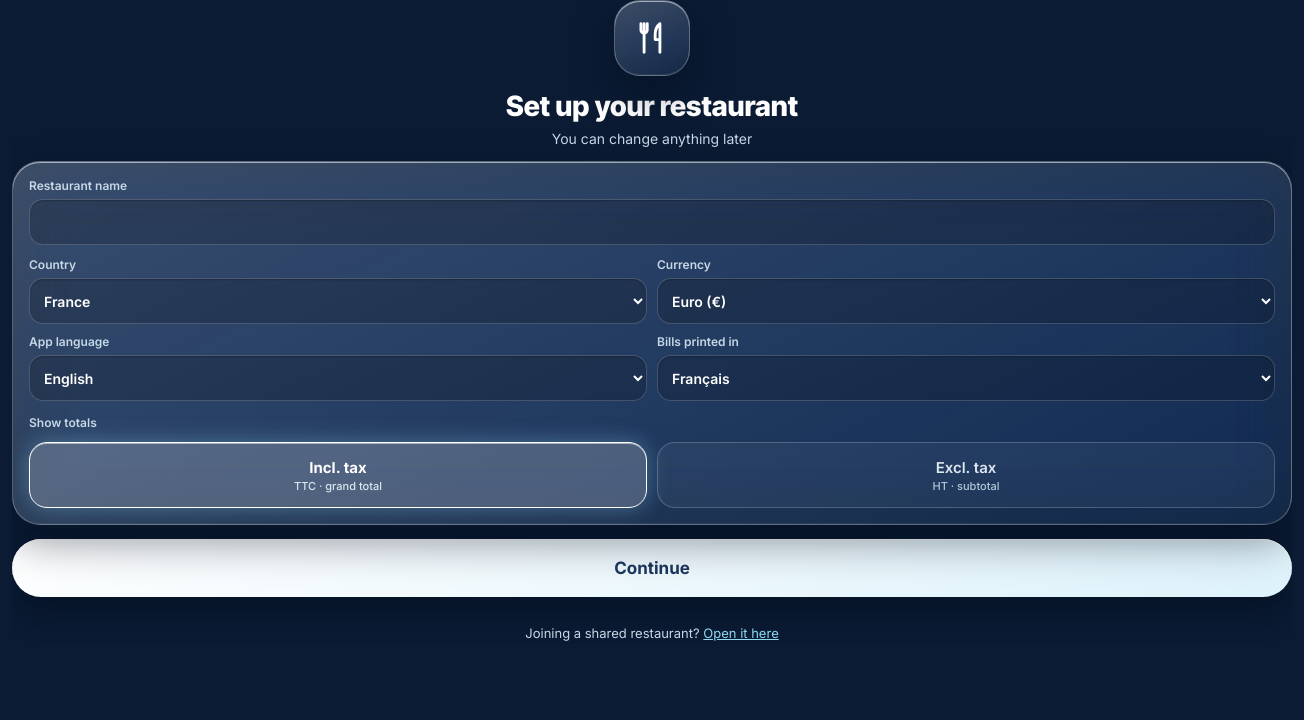
Test: failed seeding leaves no shared settings, shows an error and re-enables Continue
In the field labelled "Restaurant name": (652, 222) [29,199,1275,245], type "Chez Adi"
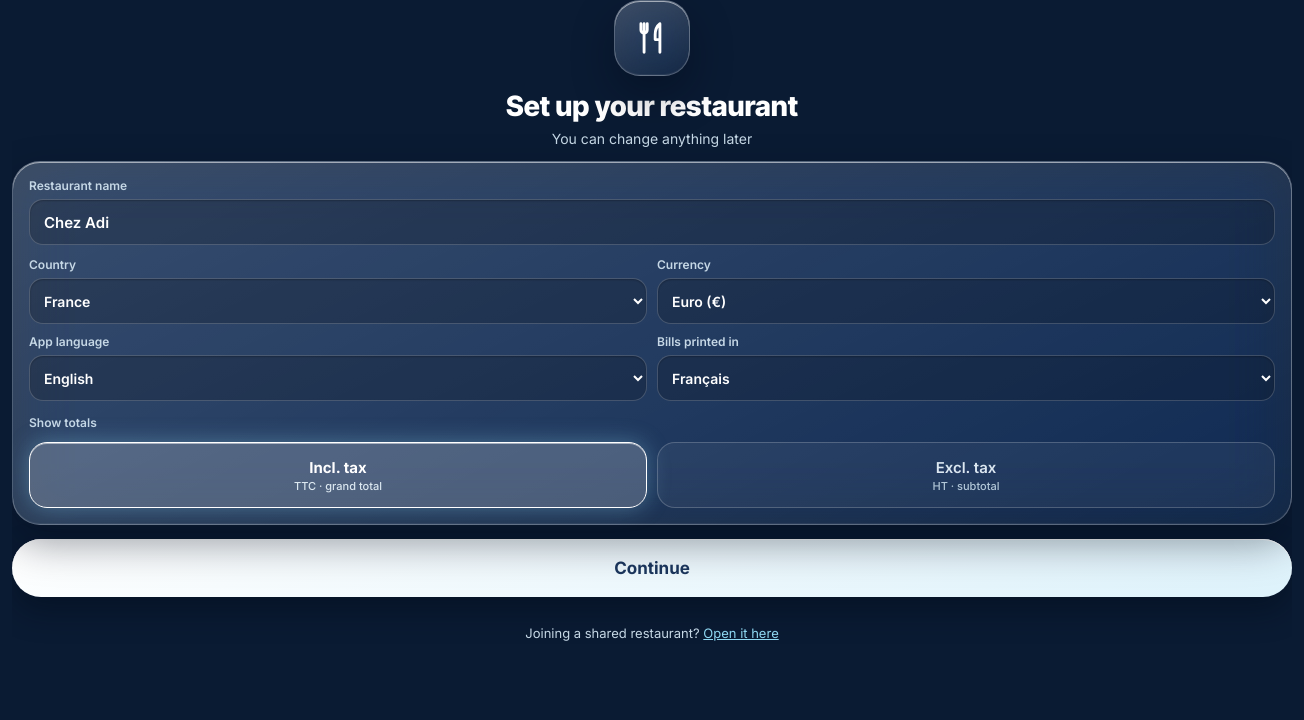
Click the button "Continue": (652, 568) [12,539,1292,597]
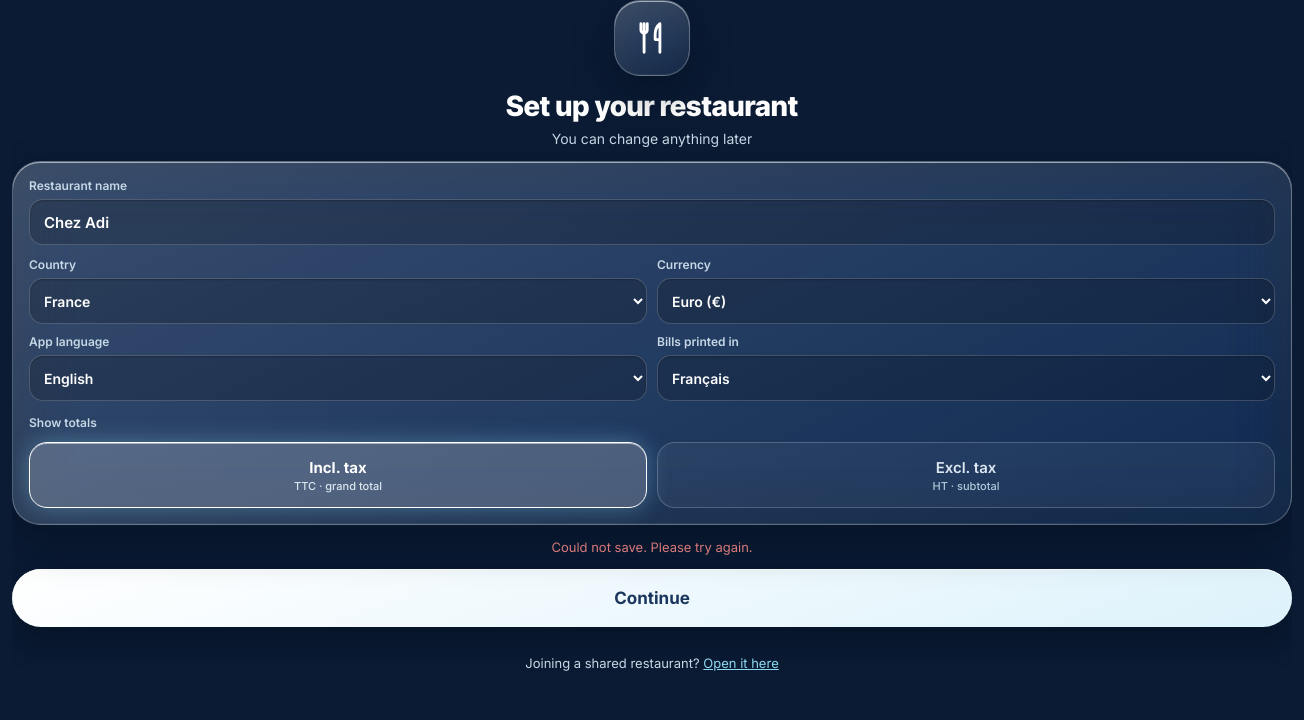
Check: the button "Continue" is enabled, box [12,569,1292,627]
Check: the message "Could not save. Please try again." is shown, box [551,539,753,555]
